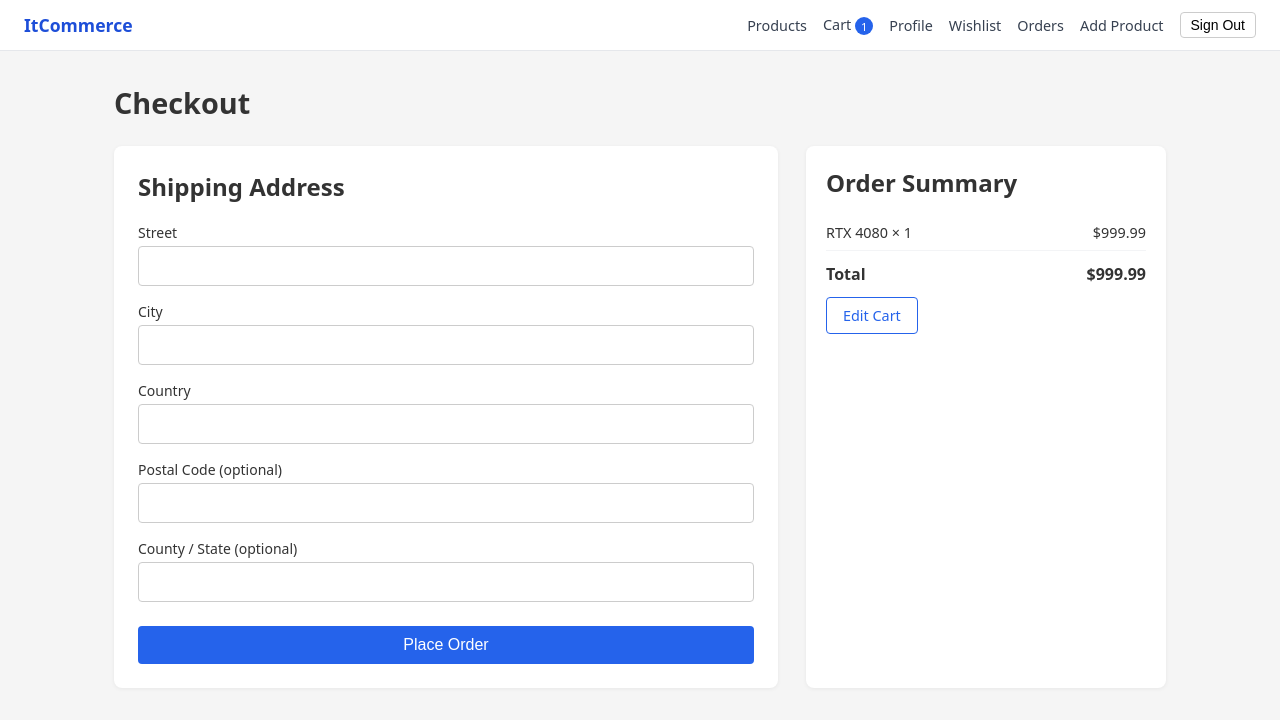
Scenario: Checkout — address validation › shows insufficient stock error when API returns 409
Step 1. Type "Main St 1" into the field labelled "Street" → (446, 266), box [138,246,754,286]
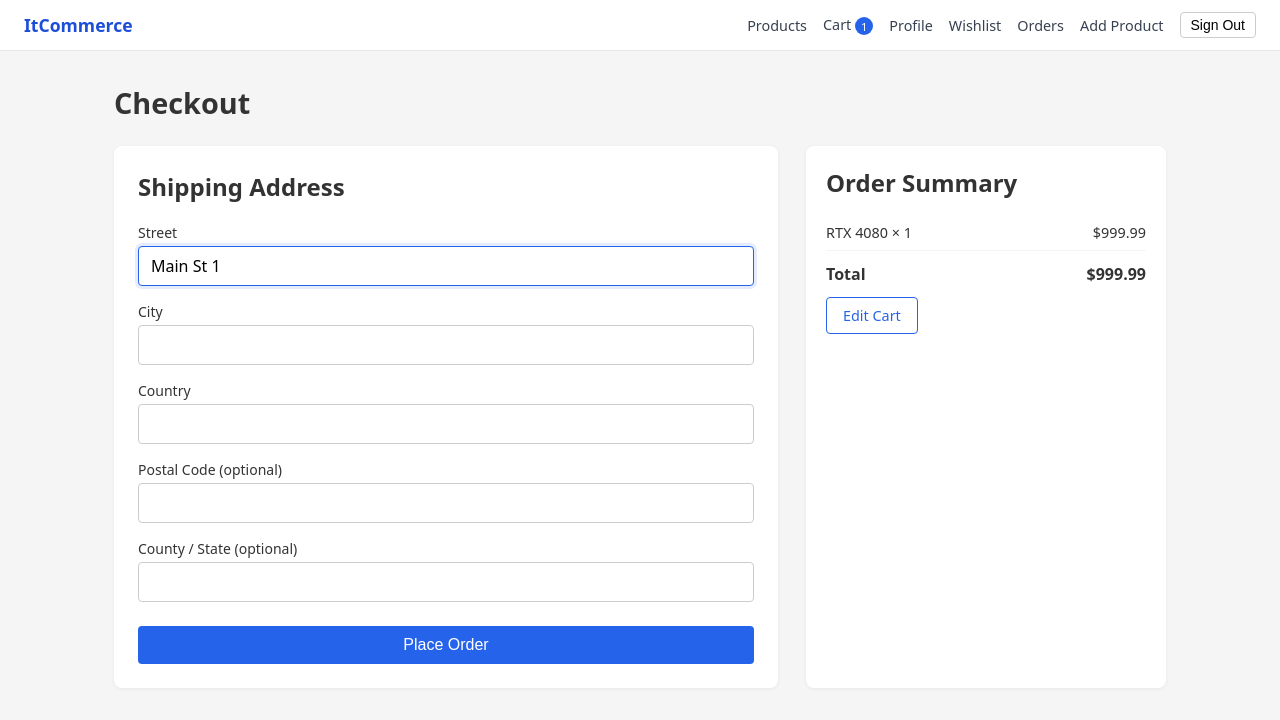
Step 2. Type "Timisoara" into the field labelled "City" → (446, 345), box [138,325,754,365]
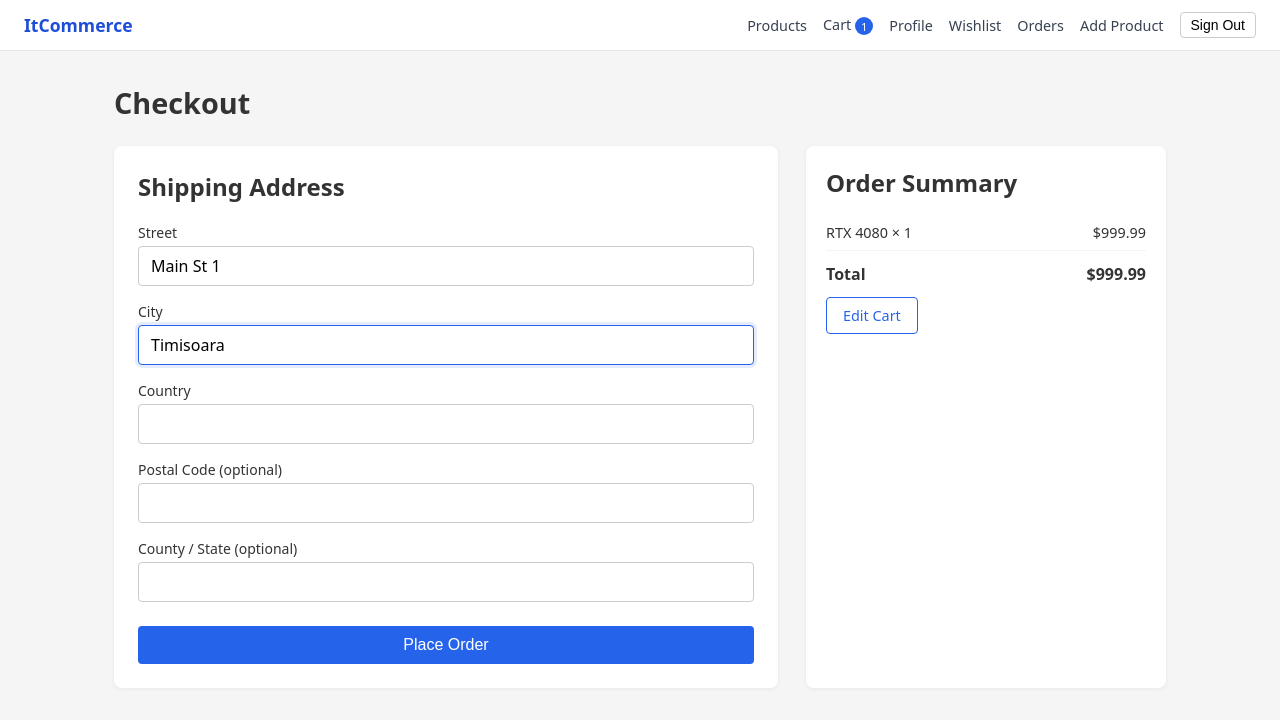
Step 3. Type "Romania" into the field labelled "Country" → (446, 424), box [138,404,754,444]
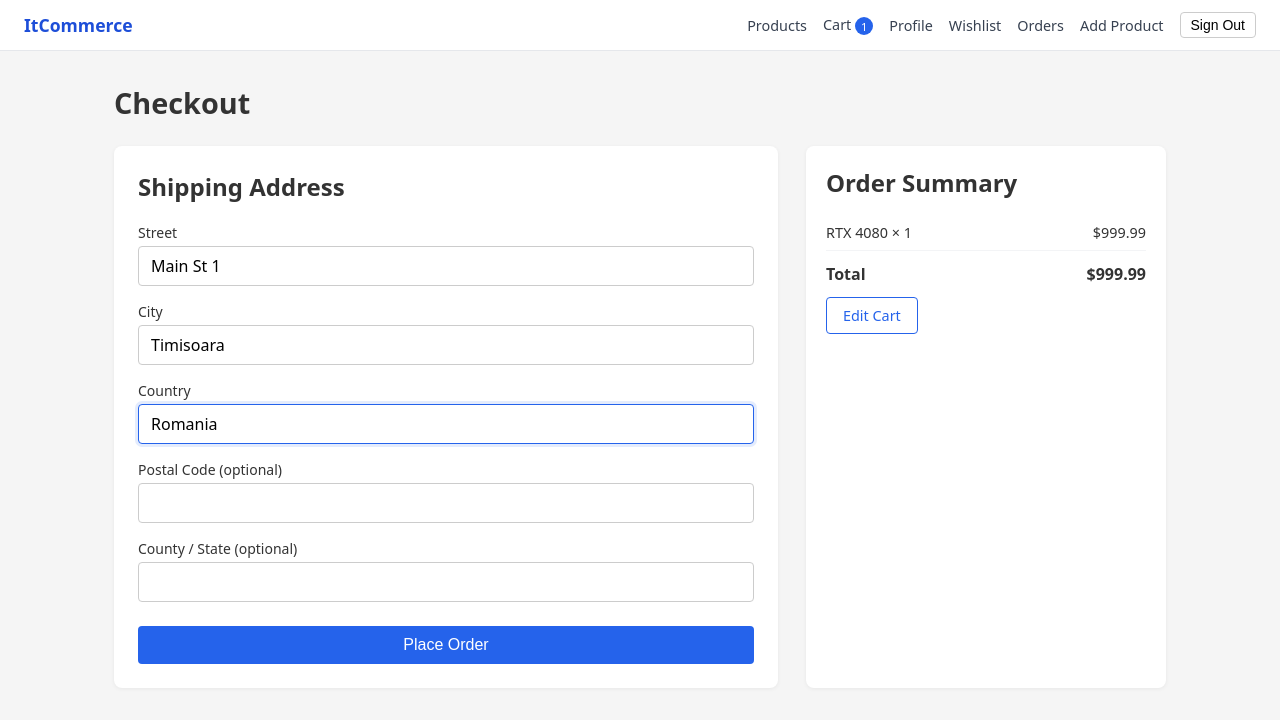
Step 4. Click the button "Place Order" → (446, 645), box [138,626,754,664]
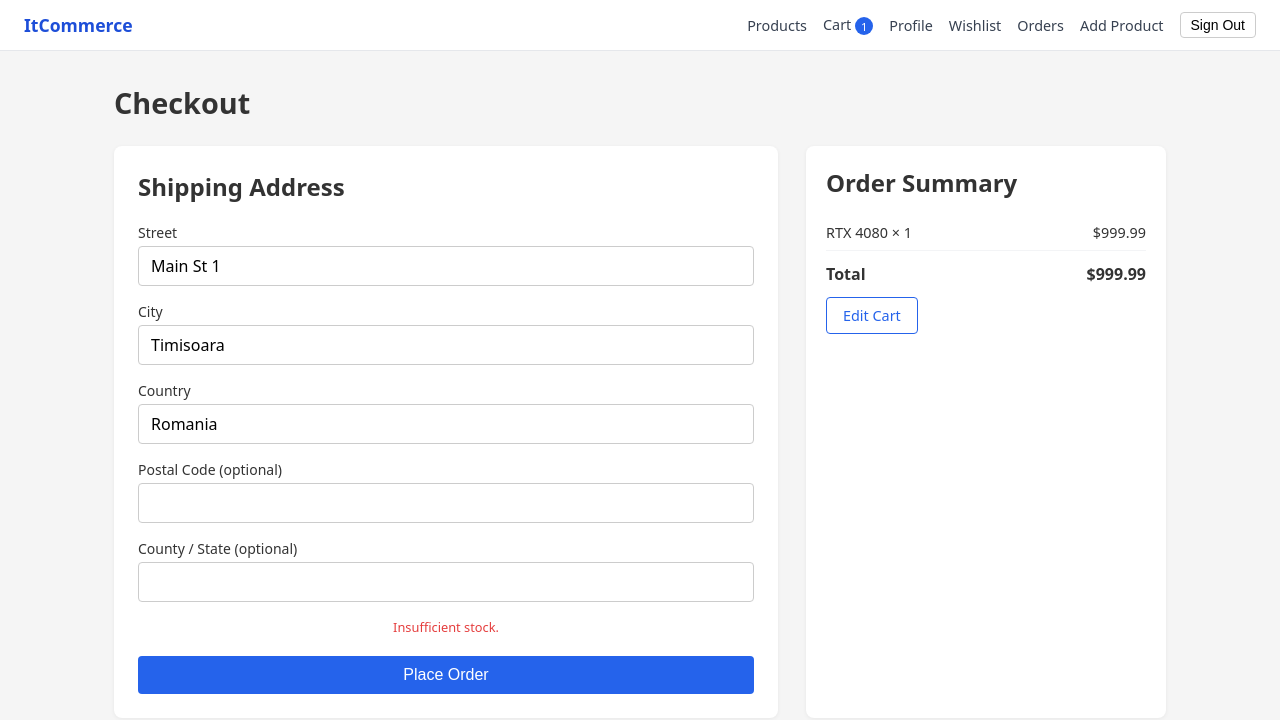
Expected: the text "Insufficient stock." is shown, [393,618,499,636]
